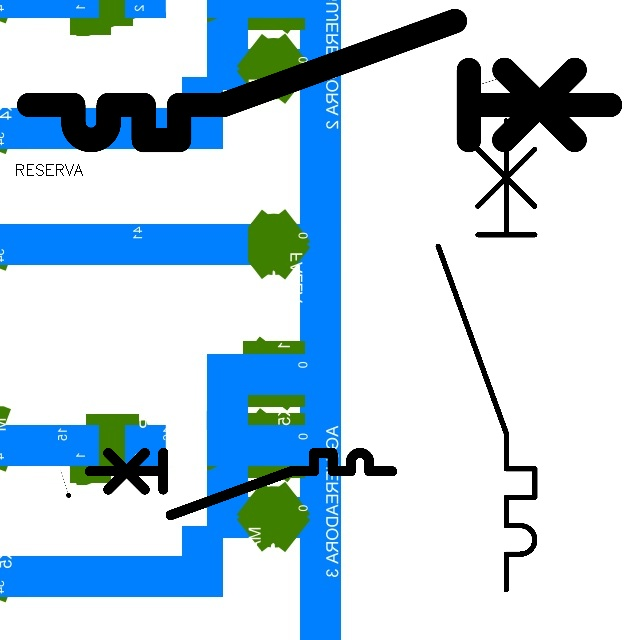interruptor_termomagnetico: (14, 6, 625, 155), (426, 108, 547, 601), (81, 445, 399, 522)
